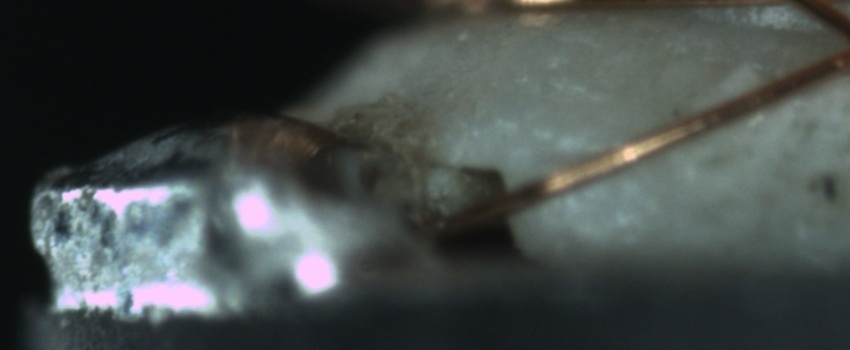CL: (804, 10, 850, 83)
